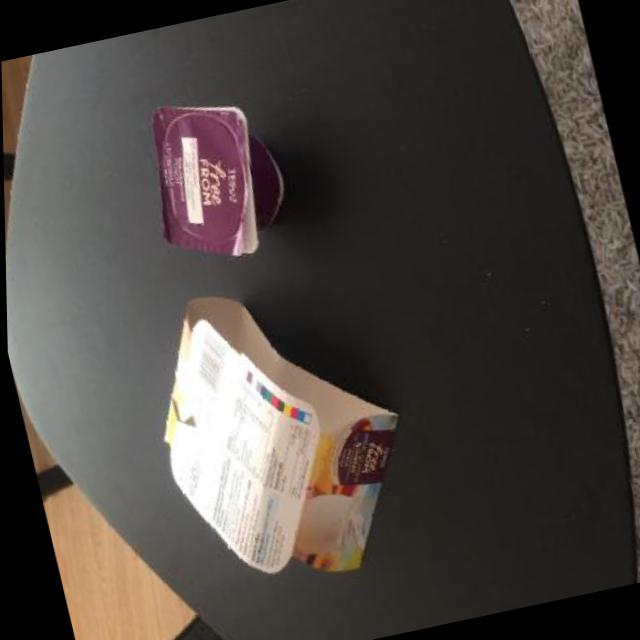cardboard: (132, 262, 434, 604)
plastic: (134, 84, 302, 270)
